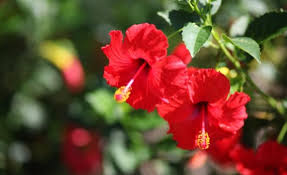hybiscus: (157, 69, 254, 152)
